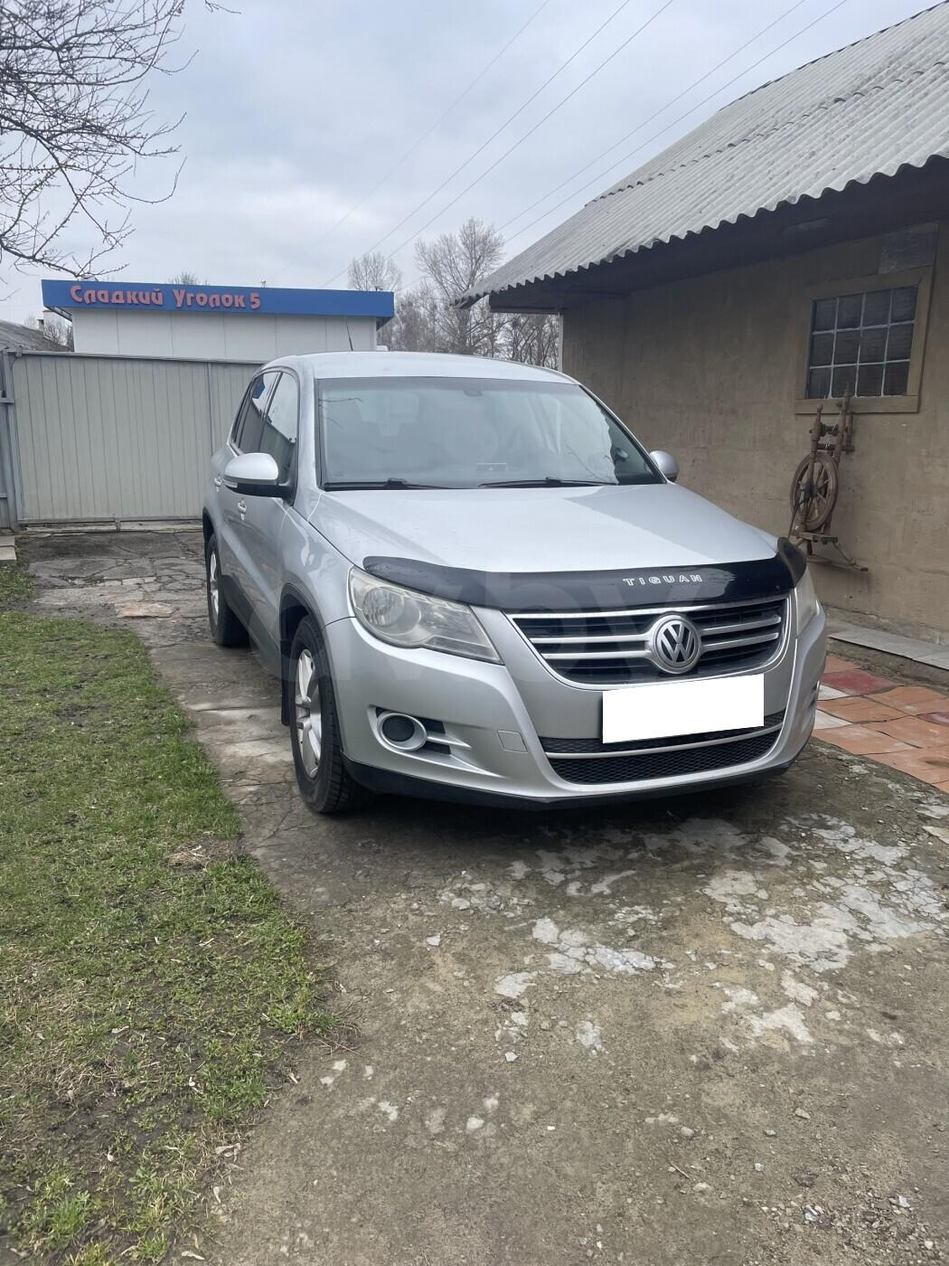Tiguan_2007-2011: (197, 351, 828, 823)
